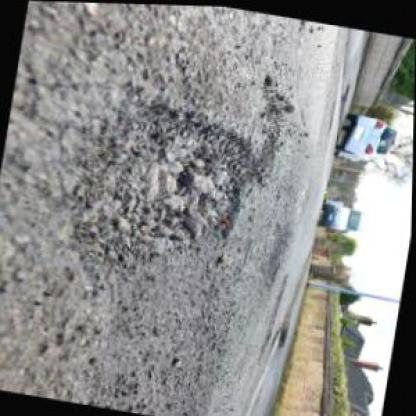pothole: (65, 80, 276, 288)
